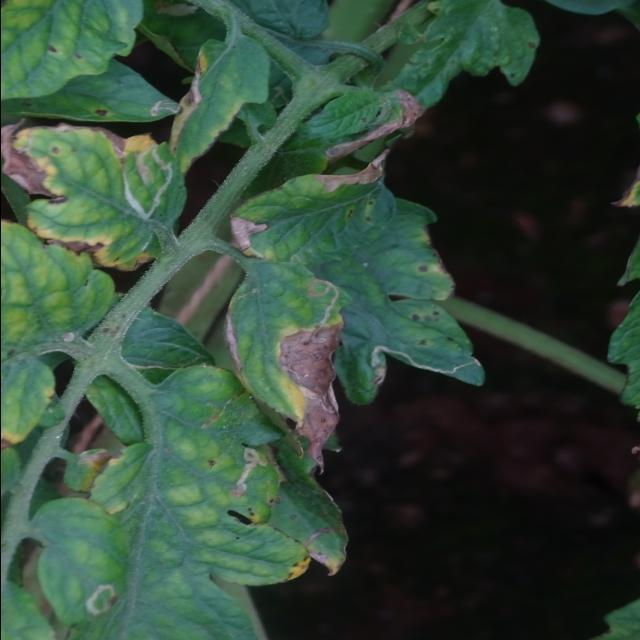Tomato mosaic virus leaf: (220, 254, 354, 476)
